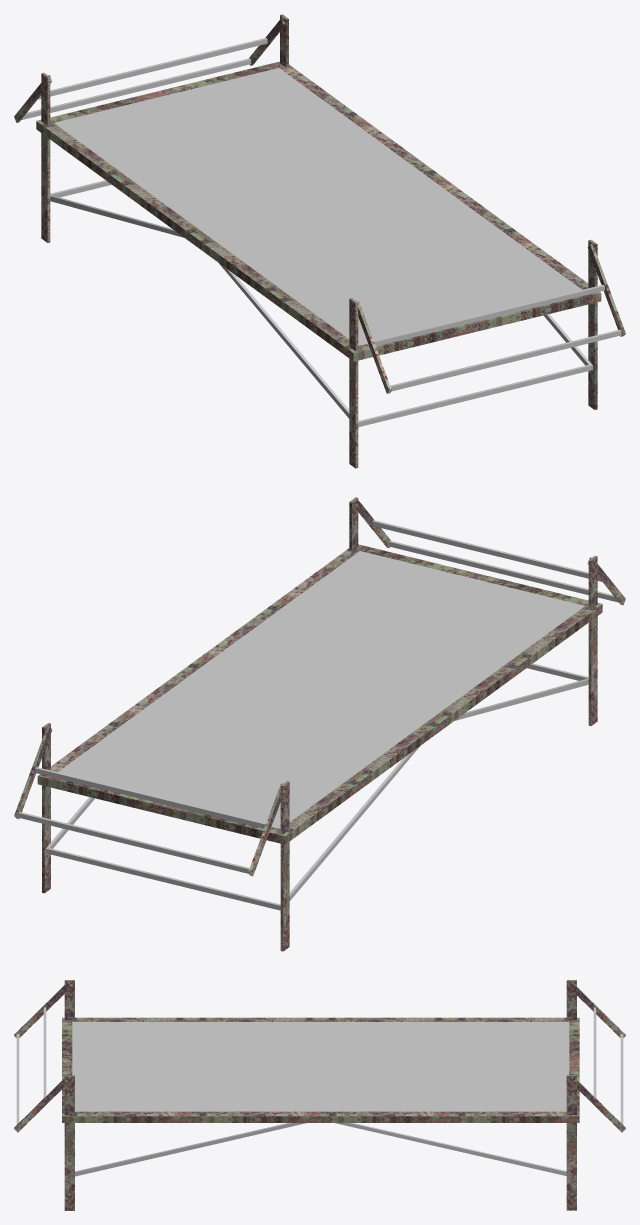
File: bed.FBX
3 views of the same model, one above another, from view 1: azimuth 30°, elevation 25°; view 2: azimuth 150°, elevation 25°; view 3: azimuth 270°, elevation 25° (orthographic). The views are drawn at different scales.
Parts seen in each view (by area): view 1: bed; view 2: bed; view 3: bed.
Boxes of the visible parts, x1,y1,x2,y2 form: bed: [14, 14, 625, 468]; bed: [14, 497, 625, 951]; bed: [14, 980, 625, 1210].
Bounding box in the file's own units: 0.9 × 0.5742 × 2.36.
